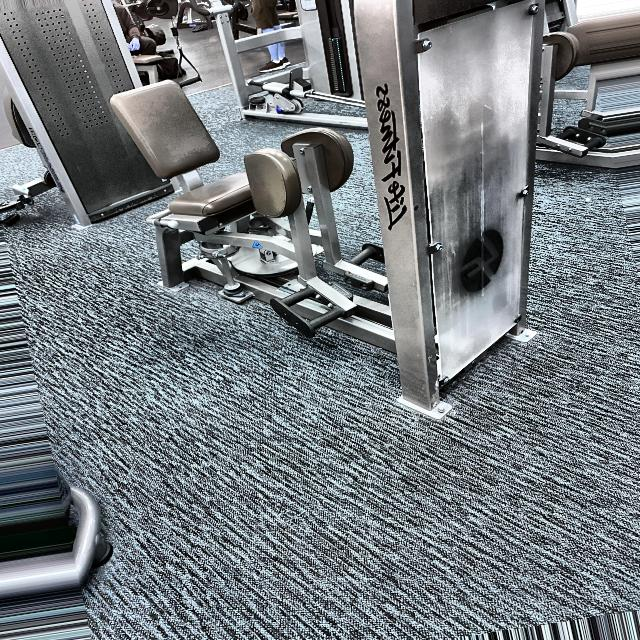hip_adduction_machine: (99, 63, 369, 344), (252, 117, 394, 335)
